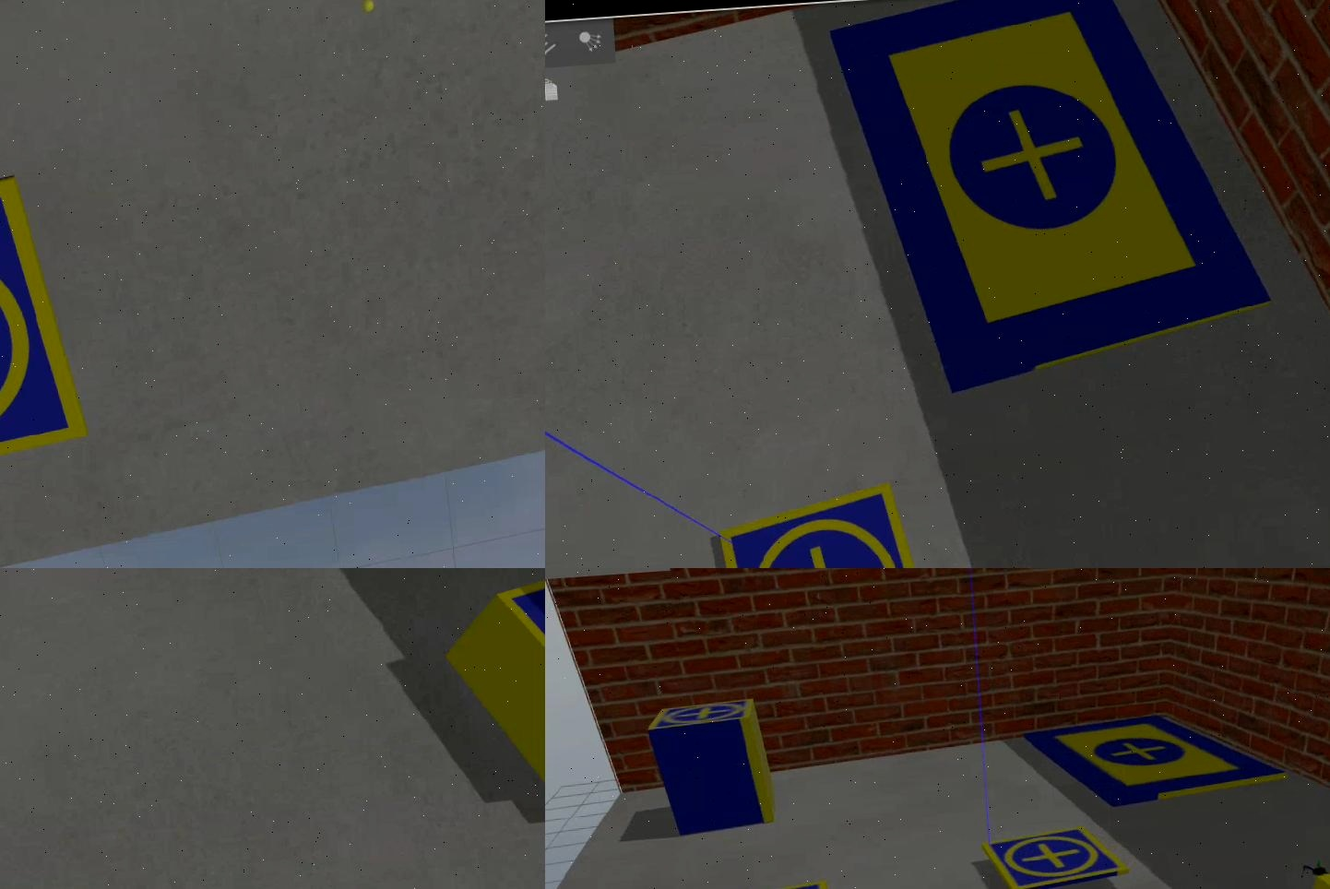large_base: (826, 1, 1278, 402), (1017, 705, 1290, 812)
small_base: (1, 172, 91, 503), (710, 480, 944, 568), (982, 826, 1137, 889), (493, 568, 545, 753), (649, 697, 754, 735)
